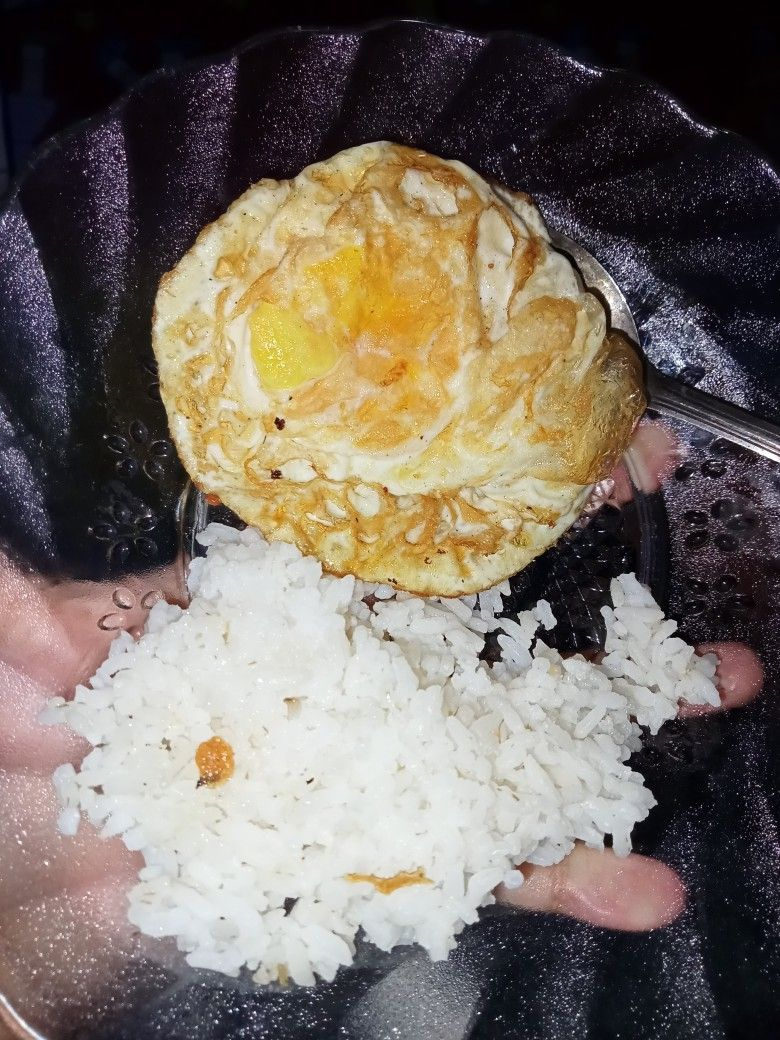makanan_berpati: (158, 630, 431, 904)
telur: (235, 198, 513, 510)
